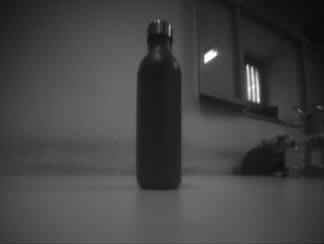Bottle: (135, 18, 183, 190), (283, 102, 306, 176), (308, 104, 323, 177)
